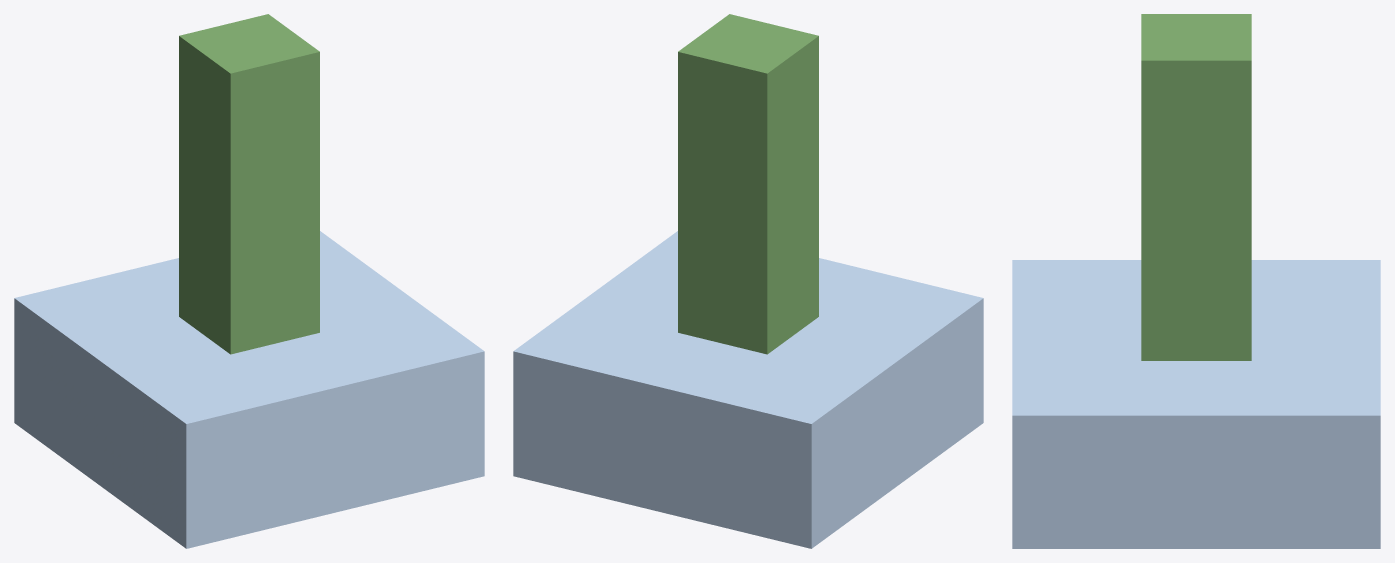
Rendered from Item_DS_Herb_LatencyLily.glb.
The picture shows the model from 3 angles, left to right: view 1: azimuth 30°, elevation 25°; view 2: azimuth 150°, elevation 25°; view 3: azimuth 270°, elevation 25°; orthographic projection. The views are drawn at different scales.
Parts seen in each view (by area): view 1: Item_DS_Herb_LatencyLily; view 2: Item_DS_Herb_LatencyLily; view 3: Item_DS_Herb_LatencyLily.
Boxes of the visible parts, left/top/right/bottom form: Item_DS_Herb_LatencyLily: left=14, top=14, right=484, bottom=548; Item_DS_Herb_LatencyLily: left=513, top=14, right=983, bottom=548; Item_DS_Herb_LatencyLily: left=1012, top=14, right=1380, bottom=548.
Size of the model in its own units: 0.2 by 0.26 by 0.2.
